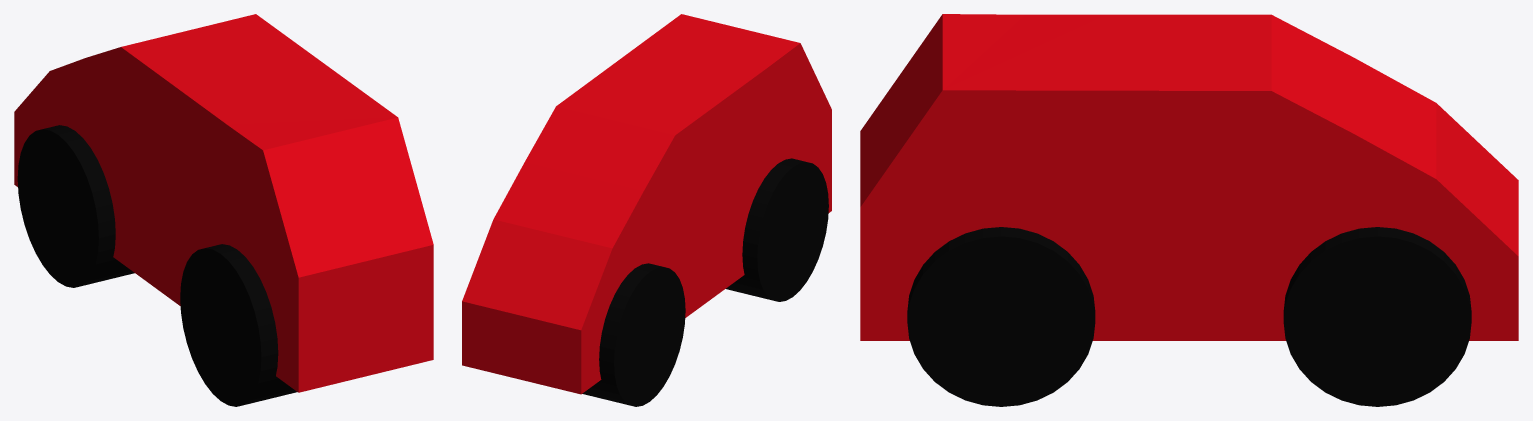
File: Car.fbx
3 renders of one model, left to right at view 1: azimuth 30°, elevation 25°; view 2: azimuth 150°, elevation 25°; view 3: azimuth 270°, elevation 25°, orthographic. The views are drawn at different scales.
Visible parts, largest first — view 1: Car; view 2: Car; view 3: Car.
Part boxes in pixels (x1,y1,x2,y2): Car: (14, 14, 433, 406); Car: (462, 14, 831, 406); Car: (860, 14, 1518, 406).
Size of the model in its own units: 120 by 180 by 350.
